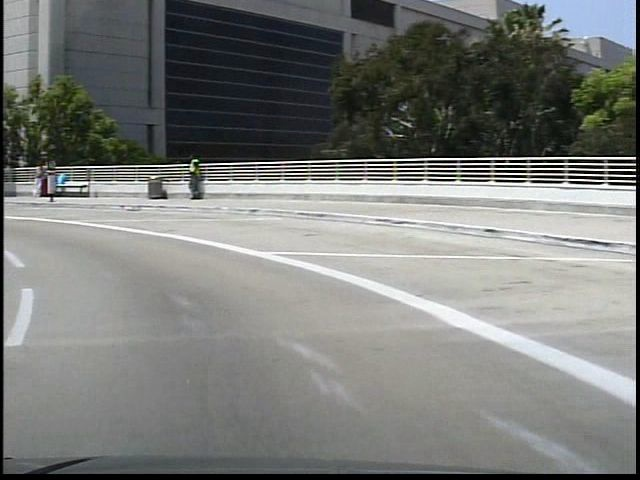person: (180, 150, 200, 204)
